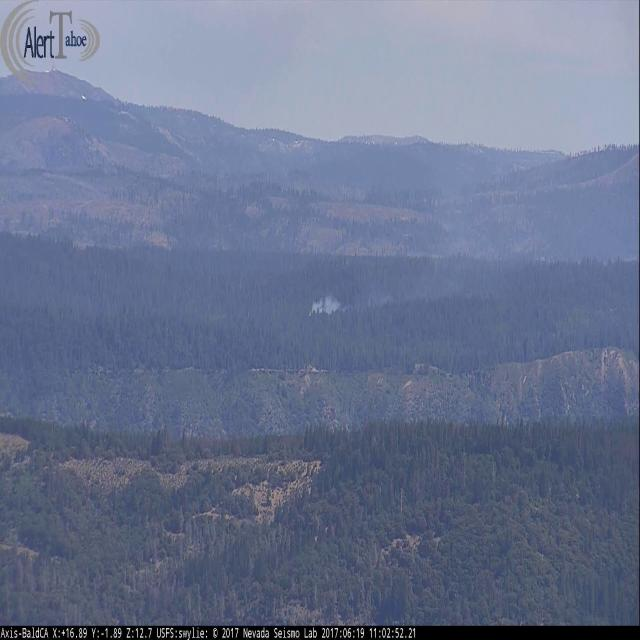smoke: (309, 270, 462, 320)
